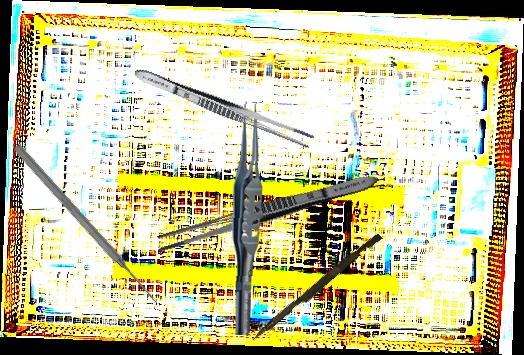Dressing Forceps: (152, 167, 382, 257), (131, 64, 316, 150)
Pusher: (11, 142, 163, 309), (250, 229, 383, 347)
Tissue Forceps: (229, 101, 265, 336)
